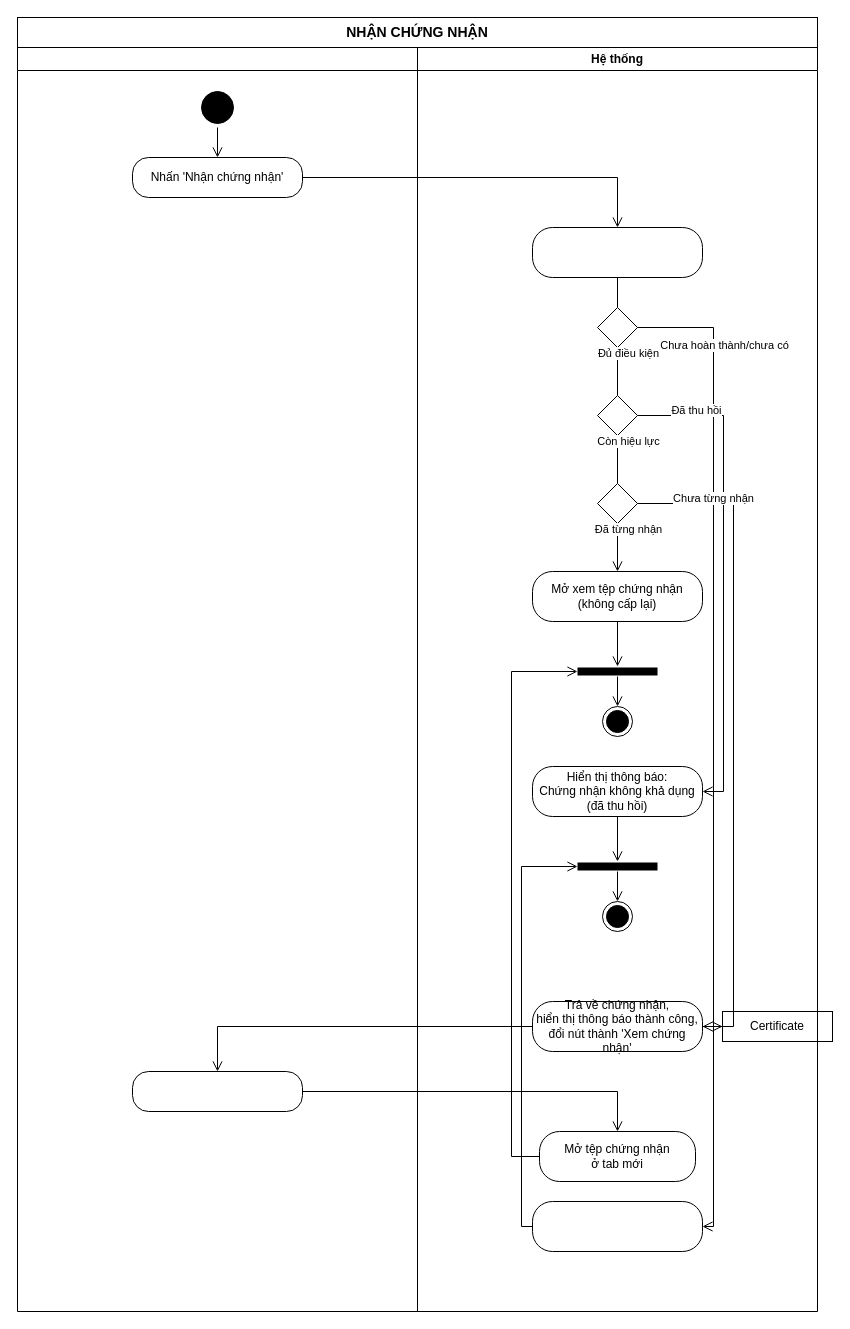
Some shapes in this 850 by 1329 pixel diagram are drawn without their labels. The shapes that lost their labels are listed below. From the top down, each one's box as (x1, y1, x2, y2) in pixels, then its label:
(532, 226, 702, 278): Kiểm tra đã hoàn thành khoá và có chứng nhận hợp lệ
(16, 46, 418, 1312): Học viên
(132, 1070, 302, 1112): Nhấn 'Xem chứng nhận'
(532, 1200, 702, 1252): Hiển thị thông báo: Chưa hoàn thành/chưa có chứng nhận
